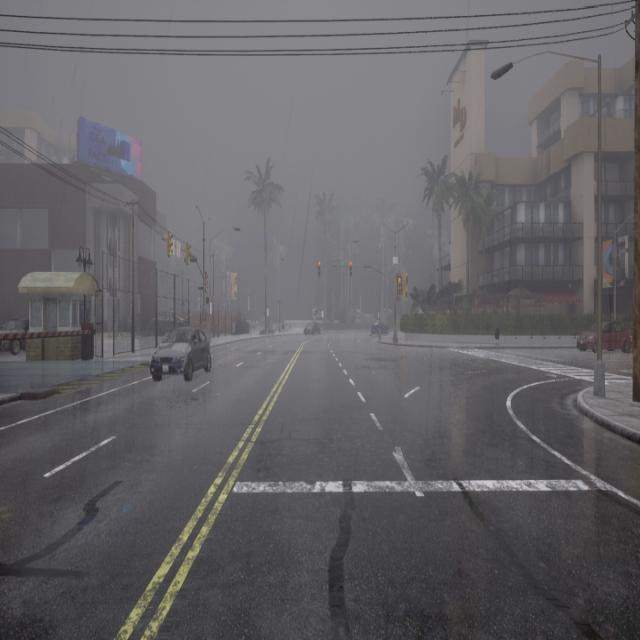bien_chi_dan: (167, 230, 173, 259), (185, 241, 191, 266), (397, 274, 402, 297), (204, 272, 209, 294), (317, 259, 322, 279), (348, 260, 353, 278), (396, 274, 402, 282), (316, 260, 322, 267), (168, 248, 172, 258), (348, 258, 353, 266), (186, 258, 190, 266), (205, 286, 208, 292)
